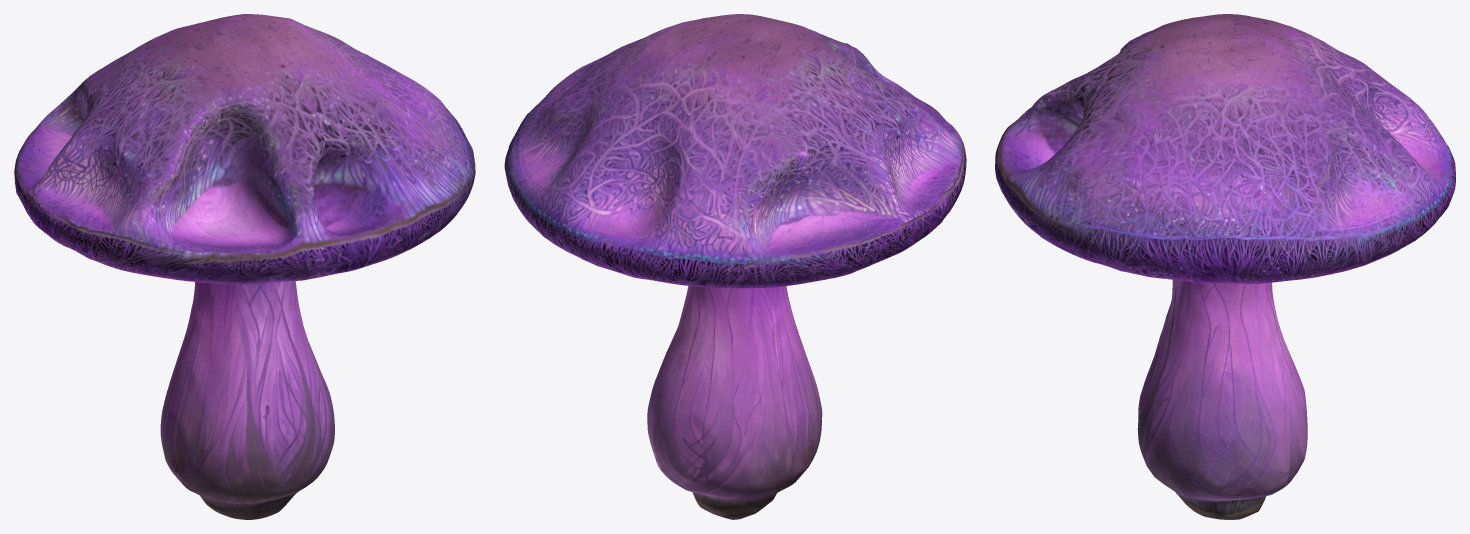
Rendered from bioluminescent_mushroom_0608030712_refine.fbx.
3 views of the same model, side by side, from view 1: azimuth 30°, elevation 25°; view 2: azimuth 150°, elevation 25°; view 3: azimuth 270°, elevation 25° (orthographic).
Visible parts, largest first — view 1: Mesh_0; view 2: Mesh_0; view 3: Mesh_0.
Boxes of the visible parts, x1,y1,x2,y2 form: Mesh_0: [14, 14, 475, 519]; Mesh_0: [504, 14, 966, 519]; Mesh_0: [995, 14, 1455, 519].
Bounding box in the file's own units: 105 × 120 × 105.
Materials: 1 (1 with a texture image).
